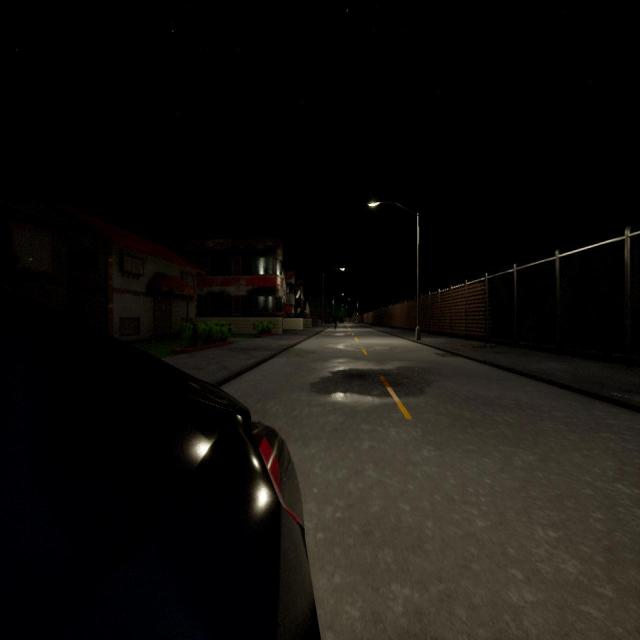Pedestrian: (333, 314, 338, 330)
Vehicle: (0, 288, 319, 638), (339, 318, 345, 323)
